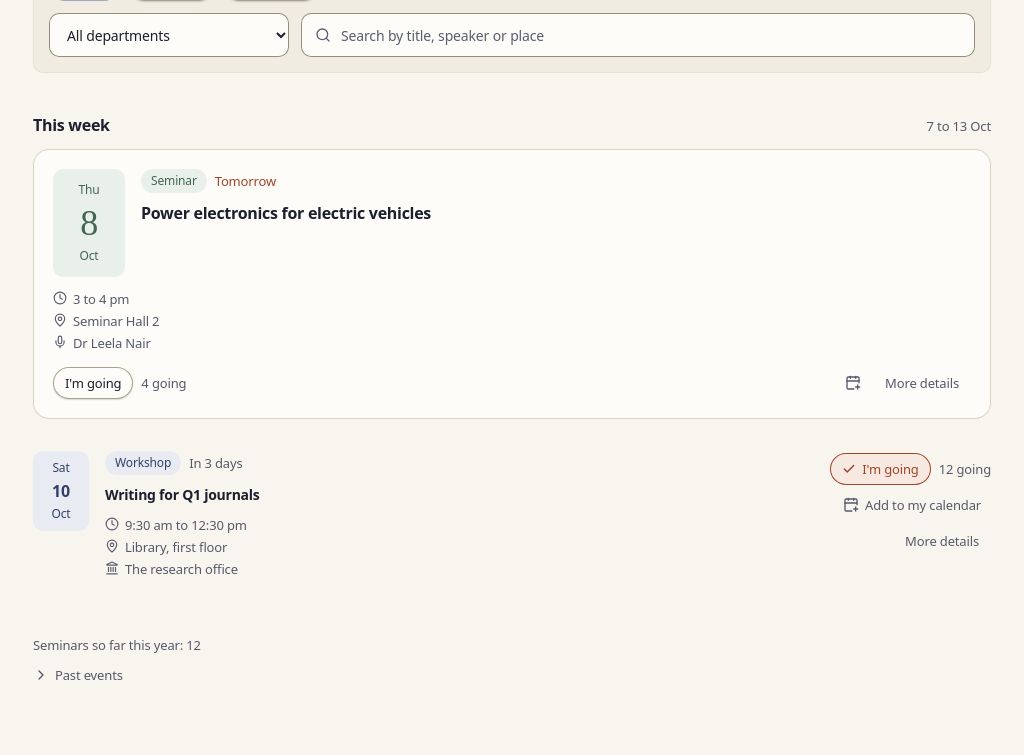
Test case: Inviting people: who may › shows the editor the way to find people to invite
(page scrolled)
Click the button "More details" below "Add to my calendar" at coordinates (942, 541), box [893,525,991,557]
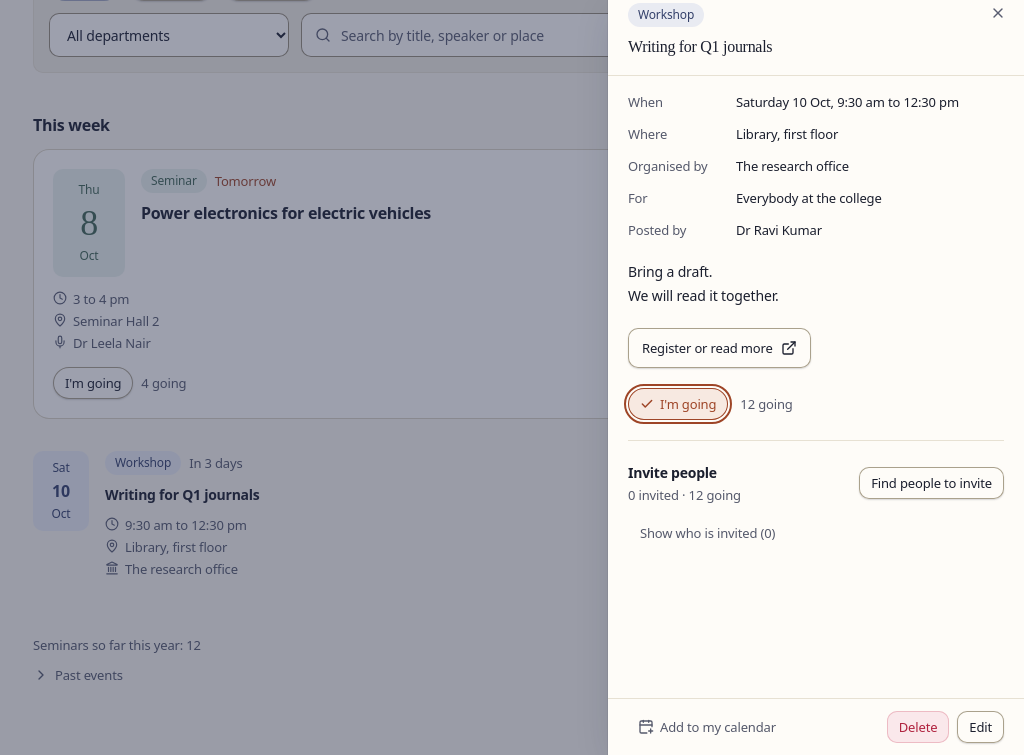
Result: the button "Find people to invite" is shown at [859,467,1004,499]
Result: the text "0 invited · 12 going" is shown at [628,485,741,505]
